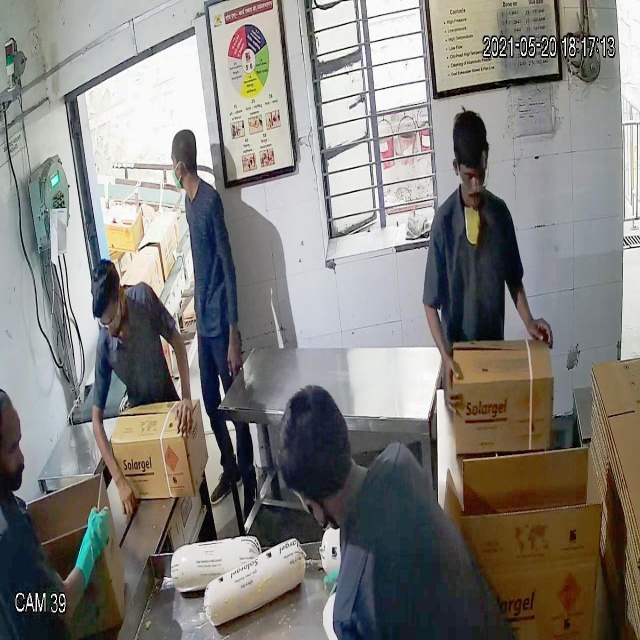Gafas: (453, 151, 497, 198), (92, 307, 126, 337)
